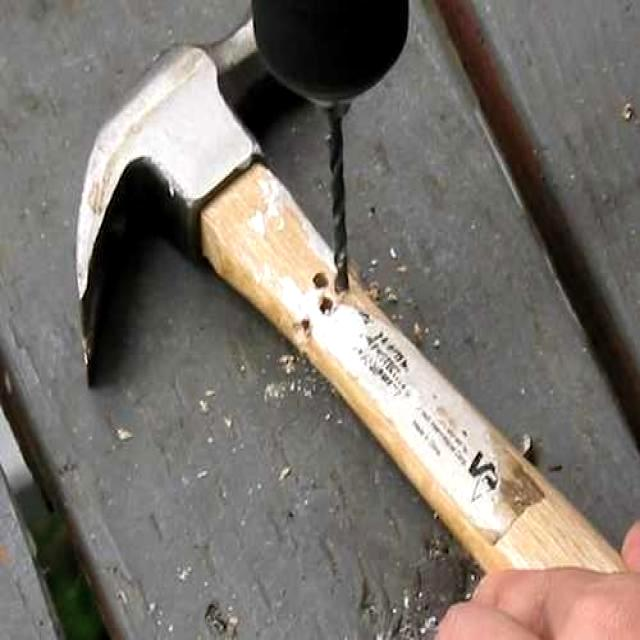hammer: (62, 5, 632, 583)
